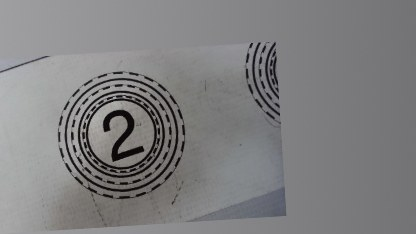2r: (52, 66, 189, 204)
